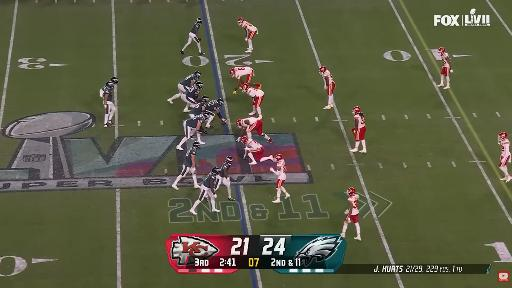Helmet: (498, 132, 507, 141), (201, 111, 211, 119), (105, 81, 114, 89), (347, 188, 356, 196), (241, 84, 249, 92), (212, 167, 220, 175), (192, 142, 201, 149), (237, 17, 244, 26), (275, 154, 283, 161), (195, 82, 203, 89), (194, 71, 201, 79), (217, 98, 224, 106), (236, 119, 242, 128), (319, 66, 326, 73), (241, 136, 248, 143), (353, 107, 360, 114), (111, 77, 118, 84), (196, 17, 203, 24), (438, 47, 445, 54), (226, 156, 232, 164), (201, 96, 209, 102), (230, 69, 235, 77)
Jersey: (184, 147, 196, 167), (186, 116, 204, 128), (235, 67, 252, 79), (348, 195, 358, 215), (191, 102, 206, 115), (277, 159, 286, 180), (185, 86, 199, 99), (206, 100, 219, 114), (180, 75, 195, 87), (246, 140, 262, 151), (242, 118, 258, 129), (203, 173, 215, 187), (354, 113, 365, 128), (323, 70, 334, 85), (501, 139, 510, 157), (247, 87, 263, 97), (220, 162, 230, 177), (242, 21, 257, 31), (103, 86, 113, 101), (441, 53, 450, 68), (190, 22, 201, 34)
Player: (190, 167, 219, 214), (172, 142, 200, 189), (177, 112, 207, 150), (168, 71, 201, 103), (341, 188, 361, 240), (236, 115, 273, 143), (269, 154, 289, 203), (241, 136, 273, 165), (215, 156, 235, 200), (180, 18, 204, 54), (100, 77, 117, 127), (230, 67, 261, 94), (238, 18, 258, 53), (351, 107, 366, 153), (319, 66, 335, 109), (241, 84, 263, 115), (181, 82, 203, 112), (498, 132, 511, 182), (438, 47, 452, 89), (206, 99, 226, 127), (189, 96, 209, 117), (109, 77, 118, 85)
